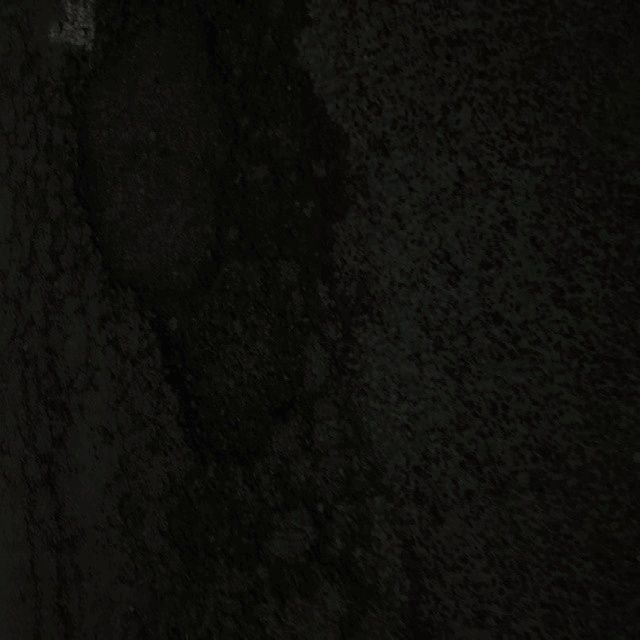Pothole: (143, 248, 305, 474)
